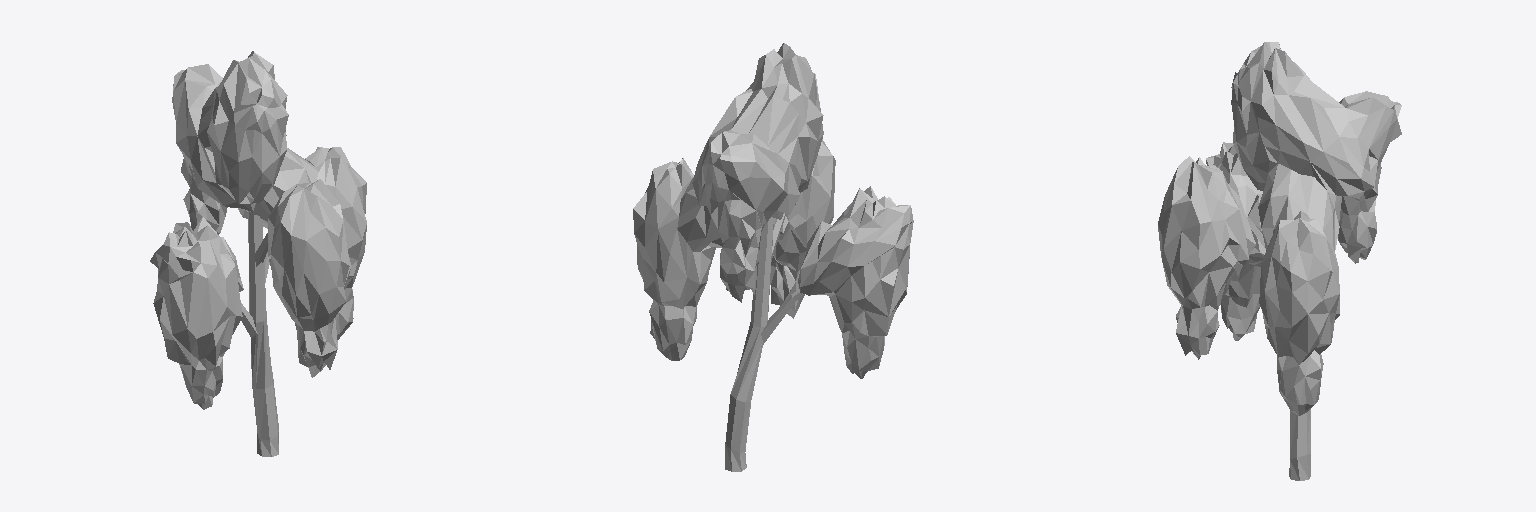
The model's file is _10_tree.obj.
3 renders of one model, left to right at view 1: azimuth 30°, elevation 25°; view 2: azimuth 150°, elevation 25°; view 3: azimuth 270°, elevation 25°, orthographic.
Visible parts, largest first — view 1: _10_tree_Cylinder.003; view 2: _10_tree_Cylinder.003; view 3: _10_tree_Cylinder.003.
Boxes of the visible parts, x1,y1,x2,y2 form: _10_tree_Cylinder.003: [150, 51, 366, 456]; _10_tree_Cylinder.003: [633, 43, 913, 471]; _10_tree_Cylinder.003: [1158, 42, 1401, 480].
Size of the model in its own units: 1.16 by 1.97 by 1.04.